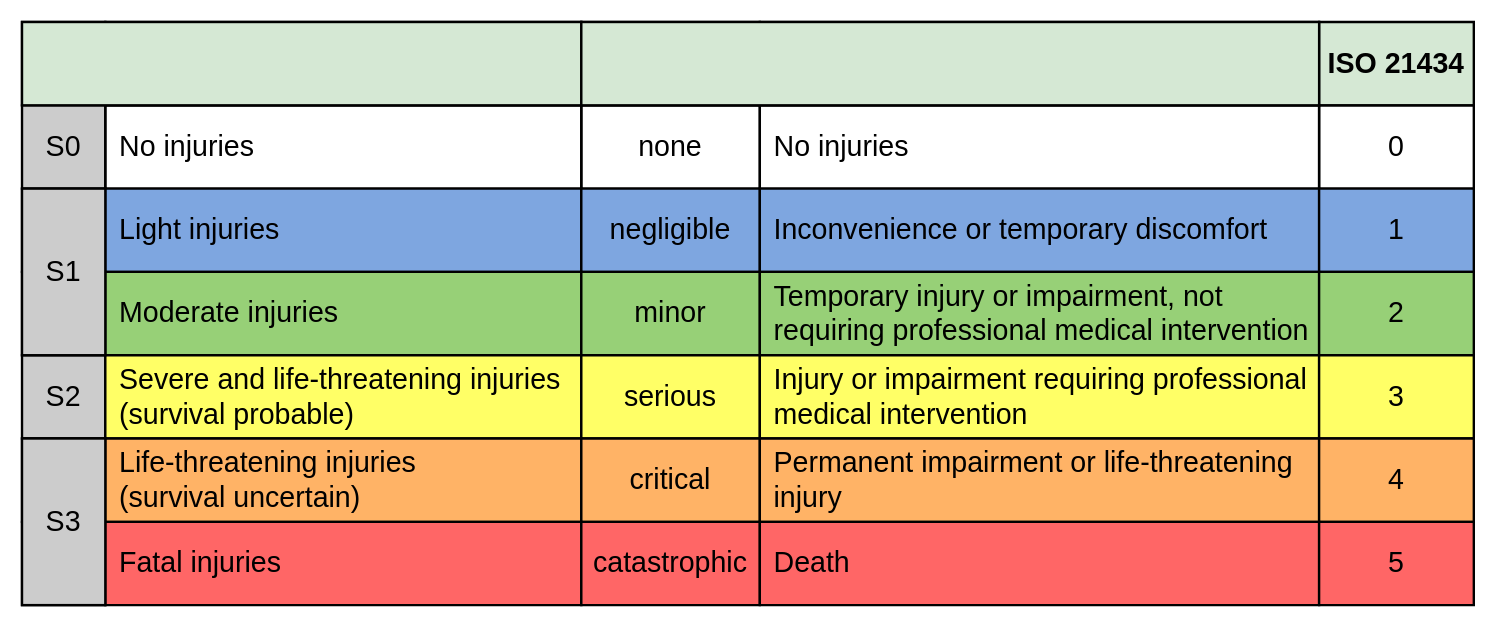
Image size: 1495x626. Some labels were removed from this diagram. Here are the shapes that lost their labels. From the top down, the centre of each, then its label:
(301,63): ISO 26262
(950,63): ISO 14971
